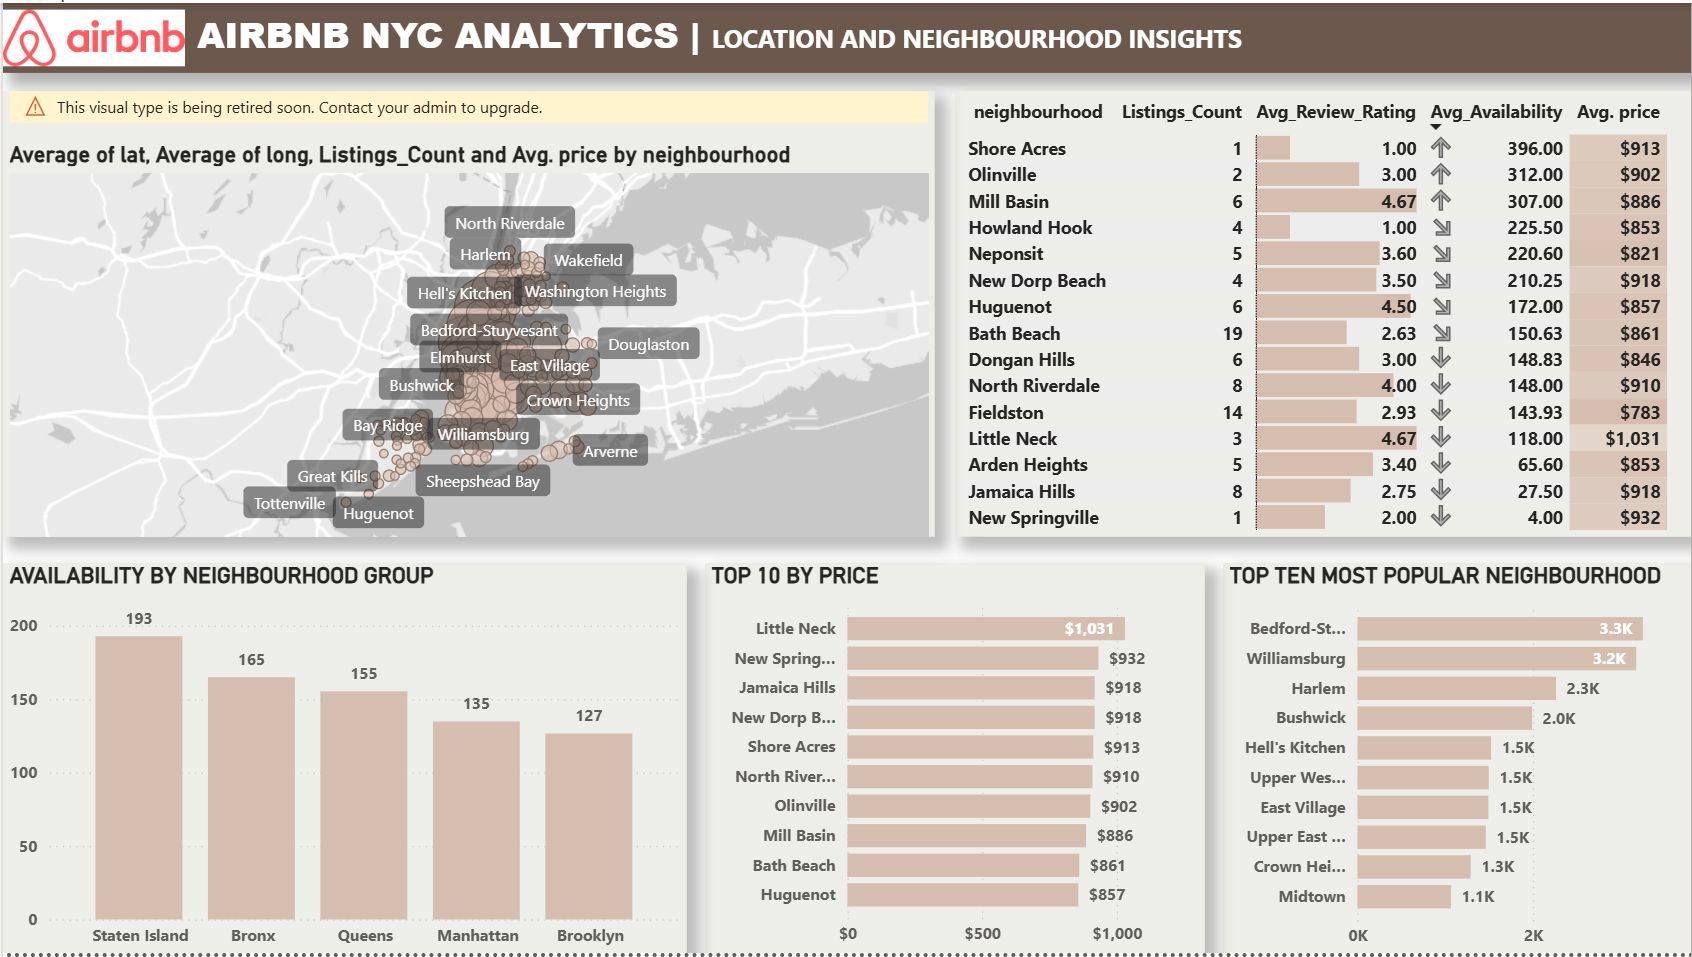

This screenshot's page, from the dashboard's own definition file:
{"tool":"powerbi","page":{"name":"LOCATION AND NEIGHBOURHOOD INSIGHTS","canvas":[1280,720],"ordinal":2},"visuals":[{"type":"textbox","box":[0,0,1280,53.1],"z":0},{"type":"clusteredBarChart","title":"TOP TEN MOST POPULAR NEIGHBOURHOOD","fields":{"Category":["Airbnb1.neighbourhood"],"Y":["Airbnb1.Listings_Count"]},"box":[925.1,424.6,356.4,300.3],"z":1000},{"type":"clusteredBarChart","title":"TOP 10 BY PRICE","fields":{"Category":["Airbnb1.neighbourhood"],"Y":["Airbnb1.Avg_Price_Per_Night"]},"box":[532.3,424.6,379.1,298.8],"z":2000},{"type":"clusteredColumnChart","title":"AVAILABILITY BY NEIGHBOURHOOD GROUP","fields":{"Category":["Airbnb1.neighbourhood group"],"Y":["Airbnb1.Avg_Availability"]},"box":[0,424.6,518.7,300.3],"z":3000},{"type":"pivotTable","fields":{"Rows":["Airbnb1.neighbourhood"],"Values":["Airbnb1.Listings_Count","Airbnb1.Avg_Review_Rating","Airbnb1.Avg_Availability","Airbnb1.Avg. price"]},"box":[721.9,66.7,565.7,338.2],"z":4000},{"type":"image","box":[0,0,138,53.1],"z":5000},{"type":"map","fields":{"Category":["Airbnb1.neighbourhood"],"Size":["Airbnb1.Listings_Count"],"Y":["Avg(Airbnb1.lat)"],"X":["Avg(Airbnb1.long)"]},"box":[0,66.7,706.7,338.2],"z":6000}]}

Visuals, with their boxes in screenshot pixels (x1, y1, x2, y2), scaled from the page's 1280x720 canvas onto the 1692x957 screenshot:
textbox: [left=0, top=0, right=1691, bottom=71]
"TOP TEN MOST POPULAR NEIGHBOURHOOD" clusteredBarChart: [left=1223, top=564, right=1691, bottom=956]
"TOP 10 BY PRICE" clusteredBarChart: [left=704, top=564, right=1205, bottom=956]
"AVAILABILITY BY NEIGHBOURHOOD GROUP" clusteredColumnChart: [left=0, top=564, right=686, bottom=956]
pivotTable - Airbnb1.neighbourhood x Airbnb1.Listings_Count: [left=954, top=89, right=1691, bottom=538]
image: [left=0, top=0, right=182, bottom=71]
map - Airbnb1.neighbourhood x Airbnb1.Listings_Count: [left=0, top=89, right=934, bottom=538]
